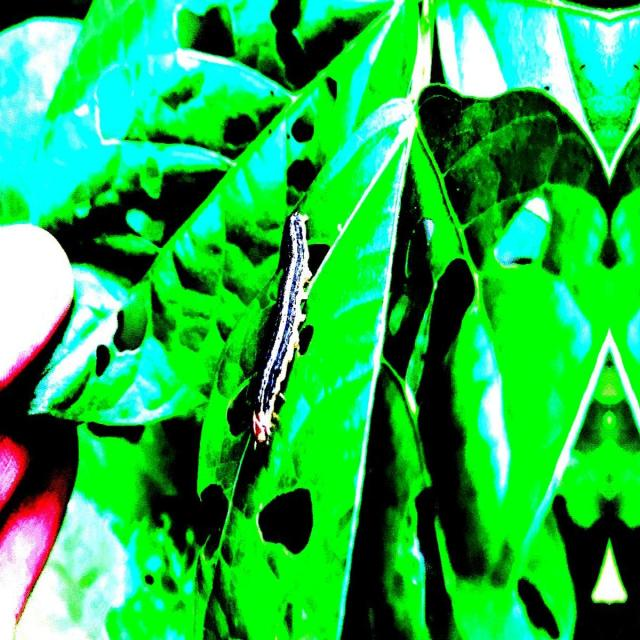Armyworm: (222, 169, 336, 444)
Armyworm_damage: (191, 466, 244, 576), (261, 488, 330, 560), (112, 296, 154, 367), (518, 573, 561, 640), (285, 104, 324, 158), (87, 328, 117, 394)
